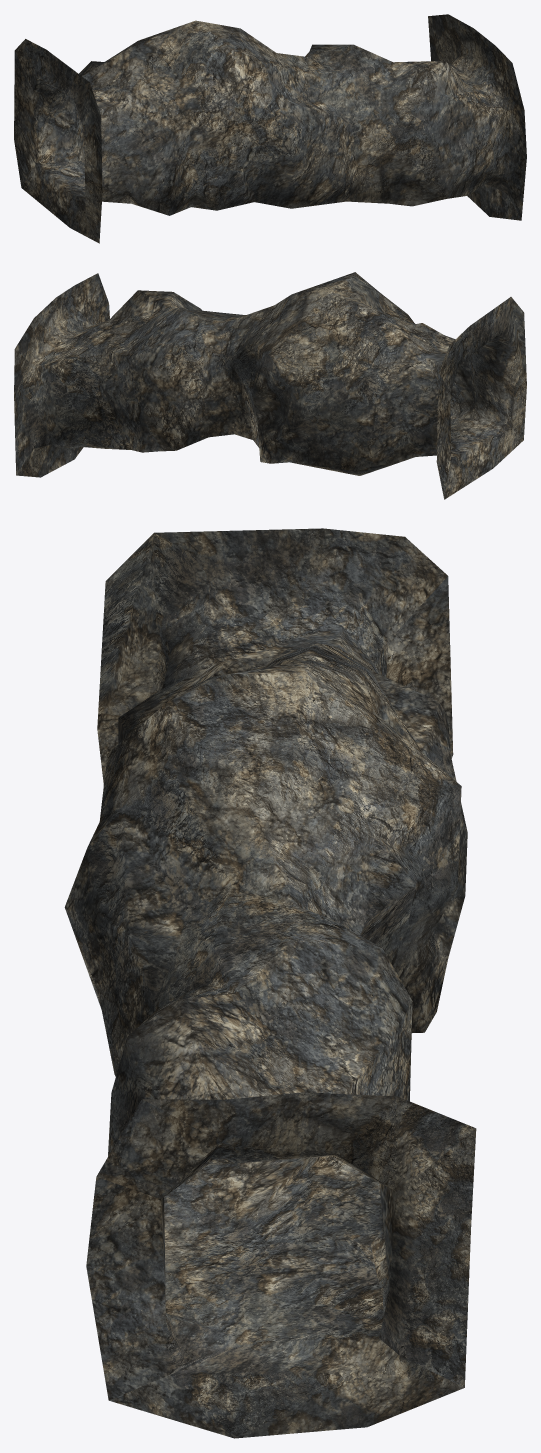
File: Module5_LOD2.fbx
The picture shows the model from 3 angles, top to bottom: view 1: azimuth 30°, elevation 25°; view 2: azimuth 150°, elevation 25°; view 3: azimuth 270°, elevation 25°; orthographic projection. The views are drawn at different scales.
Parts seen in each view (by area): view 1: cave_el5_1400_Group31123; view 2: cave_el5_1400_Group31123; view 3: cave_el5_1400_Group31123.
Part boxes in pixels (x1,y1,x2,y2): cave_el5_1400_Group31123: [14, 14, 526, 243]; cave_el5_1400_Group31123: [14, 272, 526, 499]; cave_el5_1400_Group31123: [64, 528, 476, 1438].
Size of the model in its own units: 20.56 by 11.57 by 8.58.
